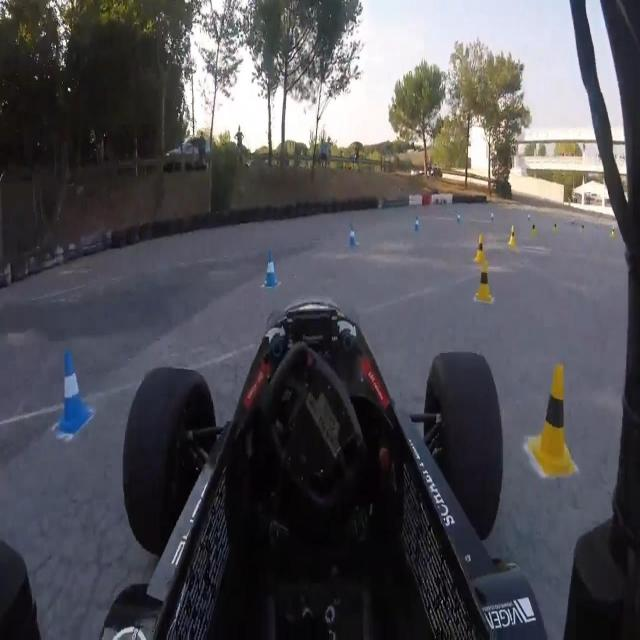blue_cone: (55, 348, 94, 434), (264, 251, 278, 288), (348, 223, 358, 249), (415, 216, 420, 232)
yellow_cone: (532, 364, 574, 478), (475, 260, 493, 303), (475, 233, 487, 266), (508, 224, 517, 249)
